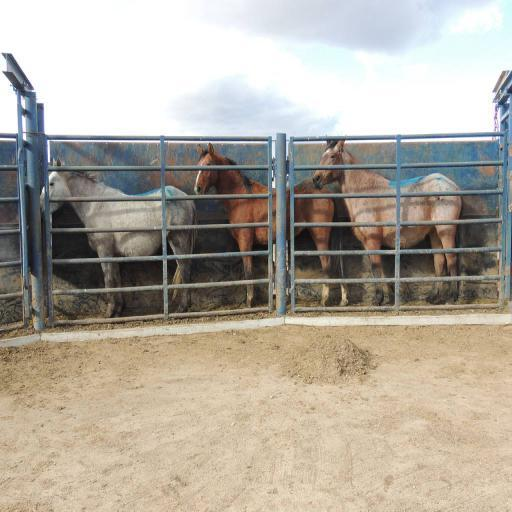horse: (38, 158, 199, 325), (194, 140, 352, 310), (311, 137, 466, 310)
